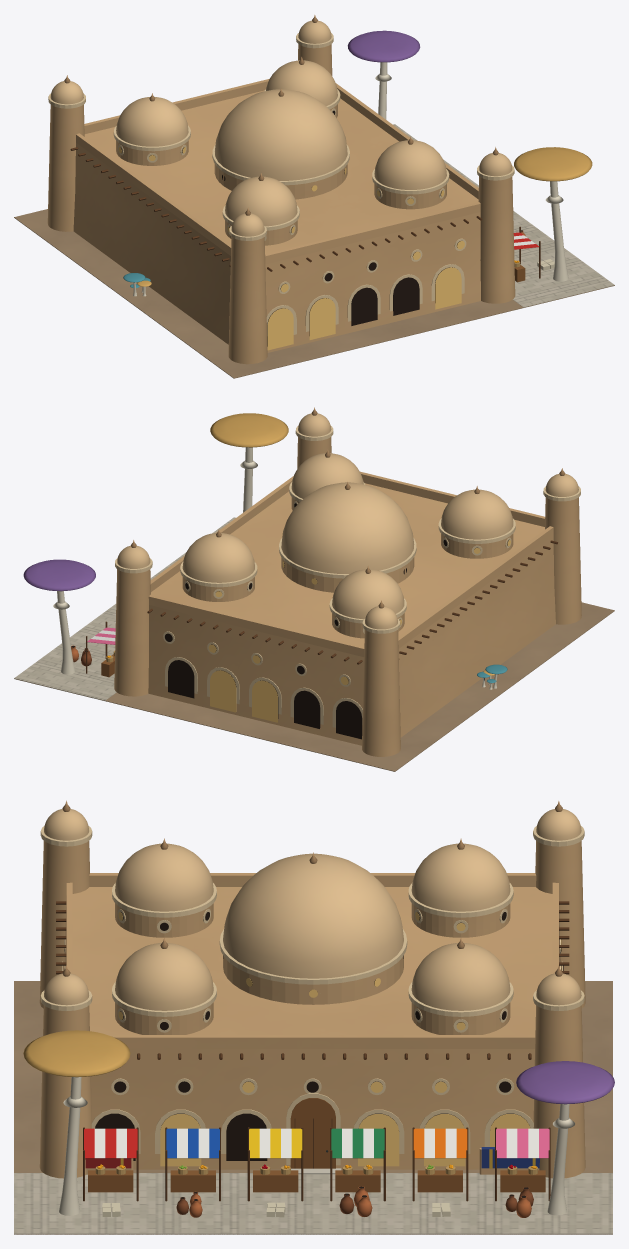
File: hl_bazar.glb
3 views of the same model, one above another, from view 1: azimuth 30°, elevation 25°; view 2: azimuth 150°, elevation 25°; view 3: azimuth 270°, elevation 25° (orthographic). The views are drawn at different scales.
Parts seen in each view (by area): view 1: dum, noc; view 2: dum, noc; view 3: dum, noc.
Part boxes in pixels (box(x1,y1,x2,y2)): dum: box(14, 15, 614, 378); noc: box(118, 147, 464, 350); dum: box(14, 407, 614, 771); noc: box(208, 540, 510, 722); dum: box(14, 800, 614, 1234); noc: box(118, 912, 561, 1166).
Bounding box in the file's own units: 29.24 × 12.51 × 29.1.
Materials: 1 (1 with a texture image).
